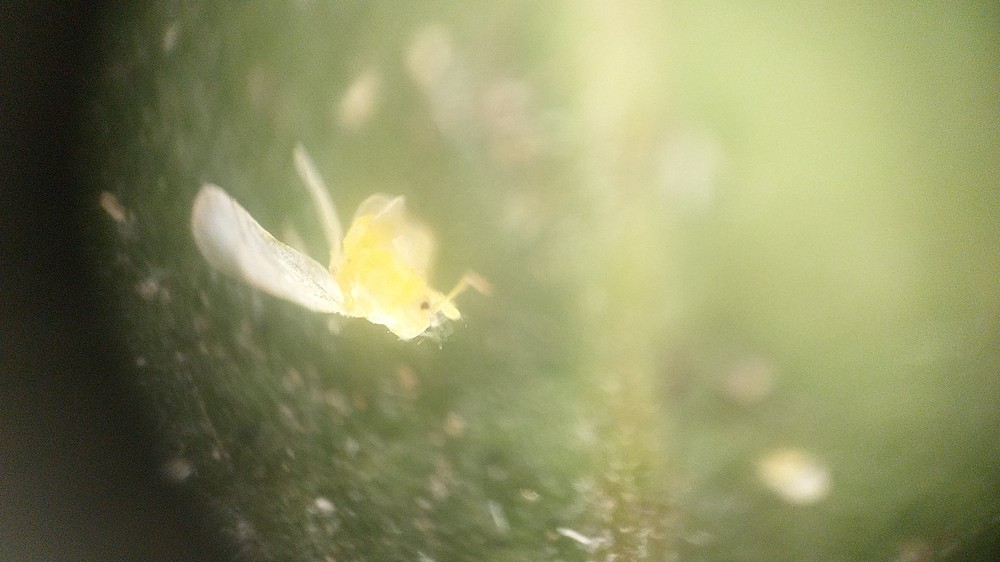Mosca Blanca: (176, 114, 528, 400)
